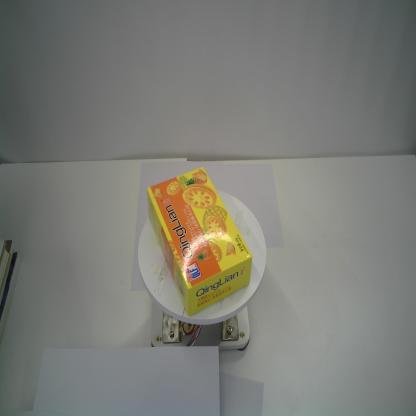Dessert: (146, 165, 253, 319)
